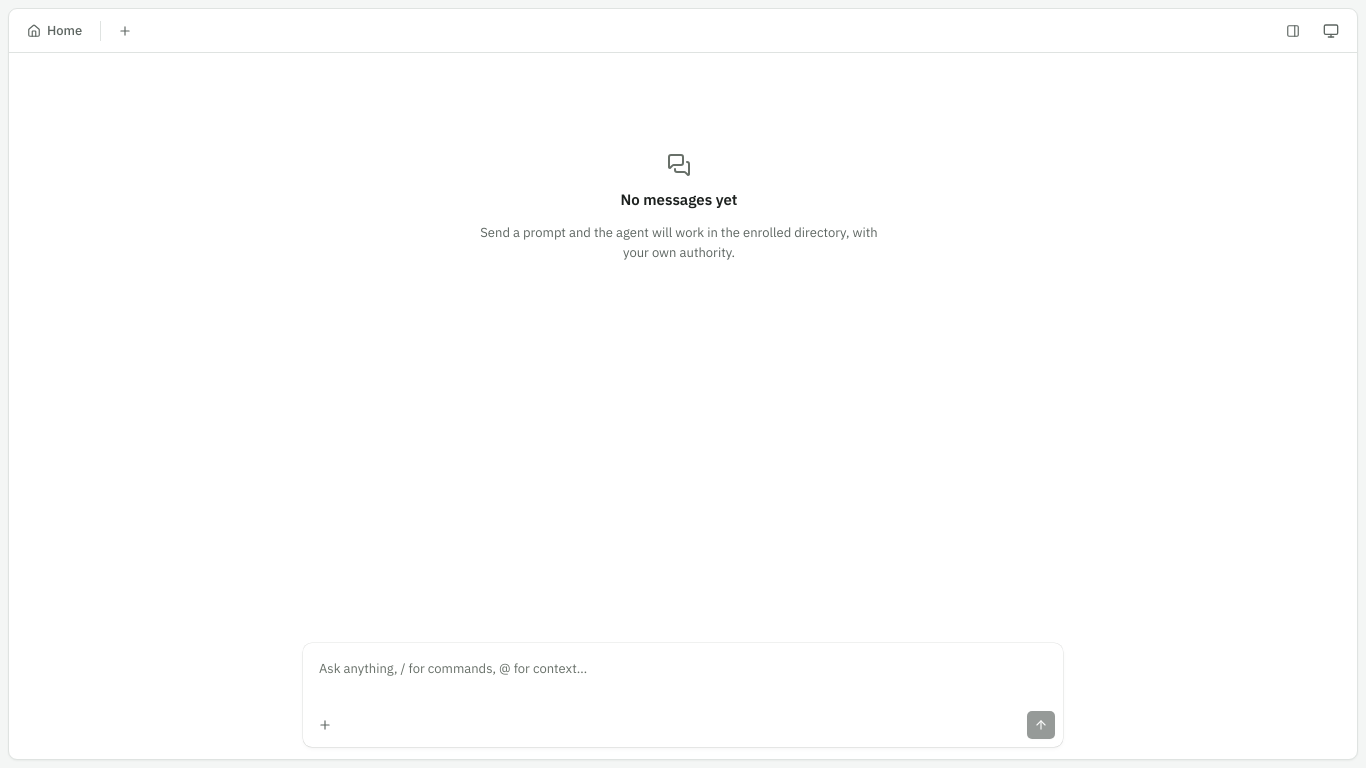
SessionView › offers workspace files after @ and inserts the one chosen
Type "look at @home" into the text box named "message the agent".
click(683, 673); type("look at @home")  # box left=303, top=643, right=1063, bottom=703
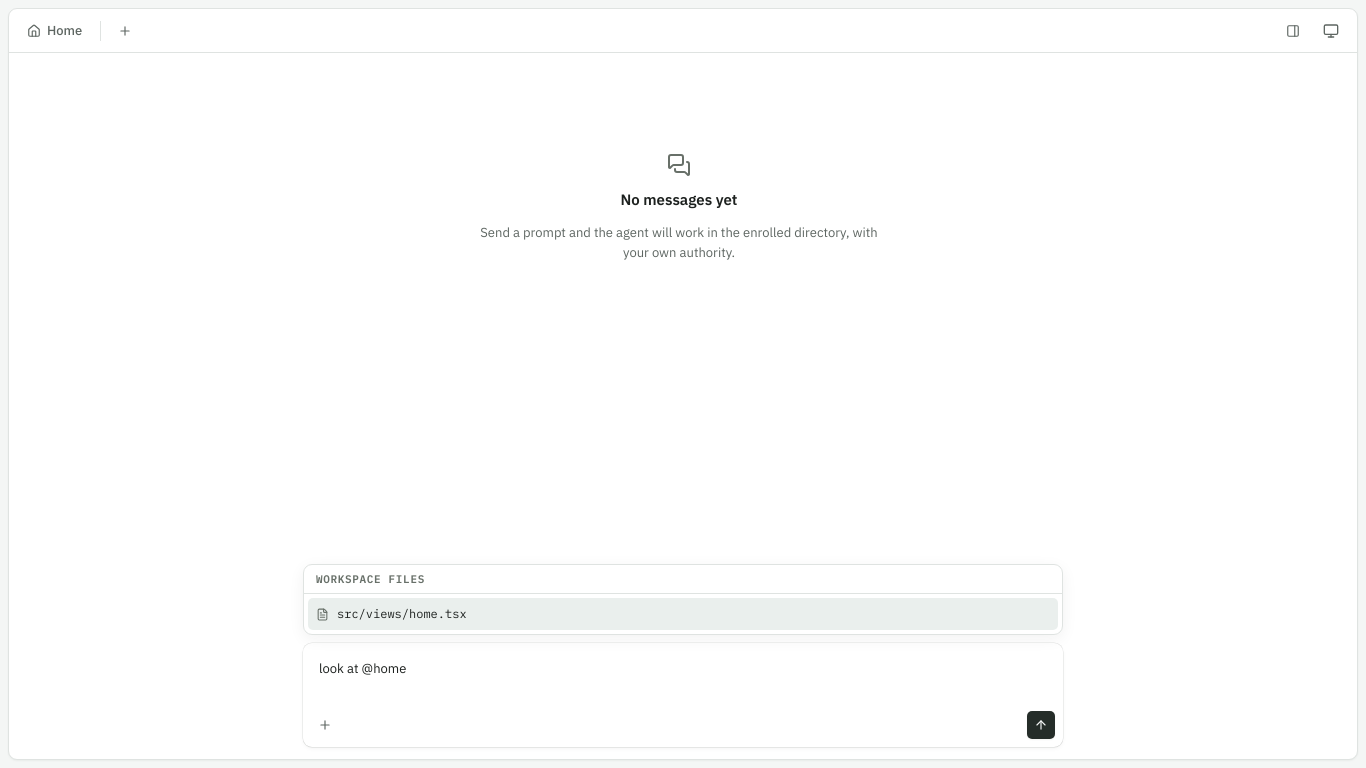
Check: the list named "workspace files" is shown, box left=304, top=594, right=1062, bottom=634
Click the option "src/views/home.tsx".
click(402, 614)  # box left=308, top=598, right=1058, bottom=630
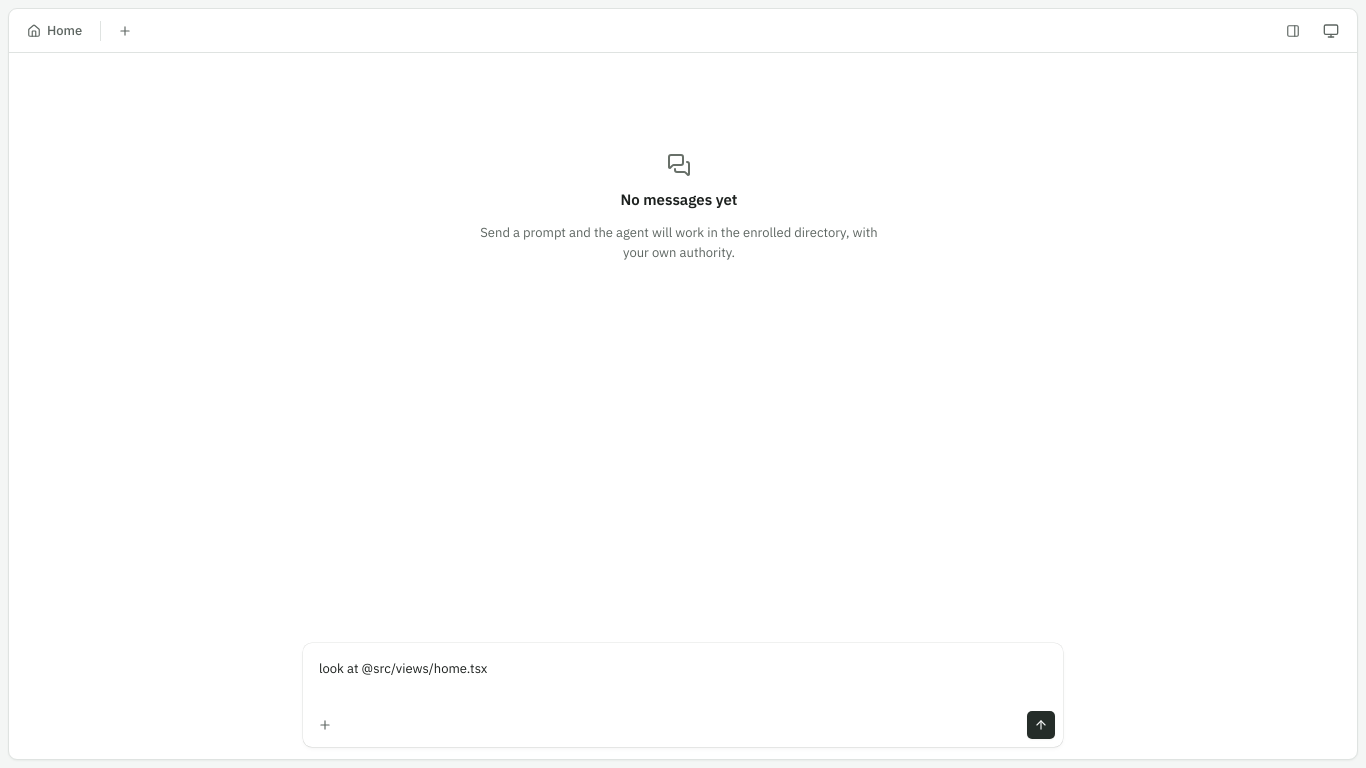
Check: the text box named "message the agent" holds "look at @src/views/home.tsx ", box left=303, top=643, right=1063, bottom=703
